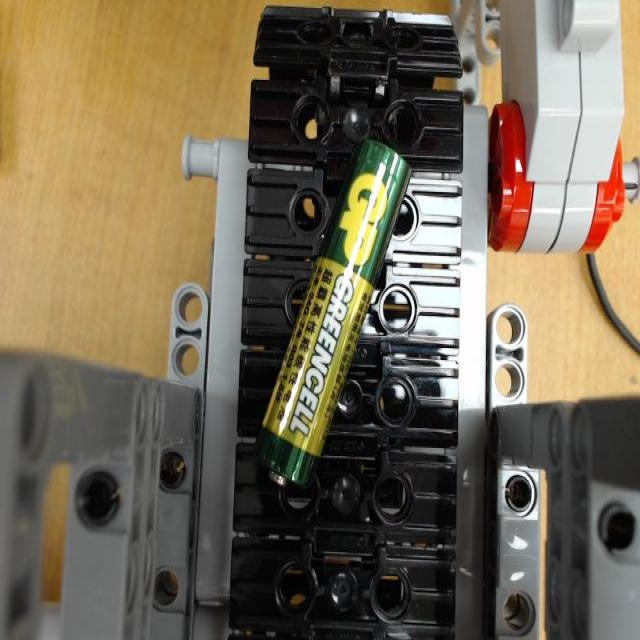AAA: (248, 143, 409, 496)
